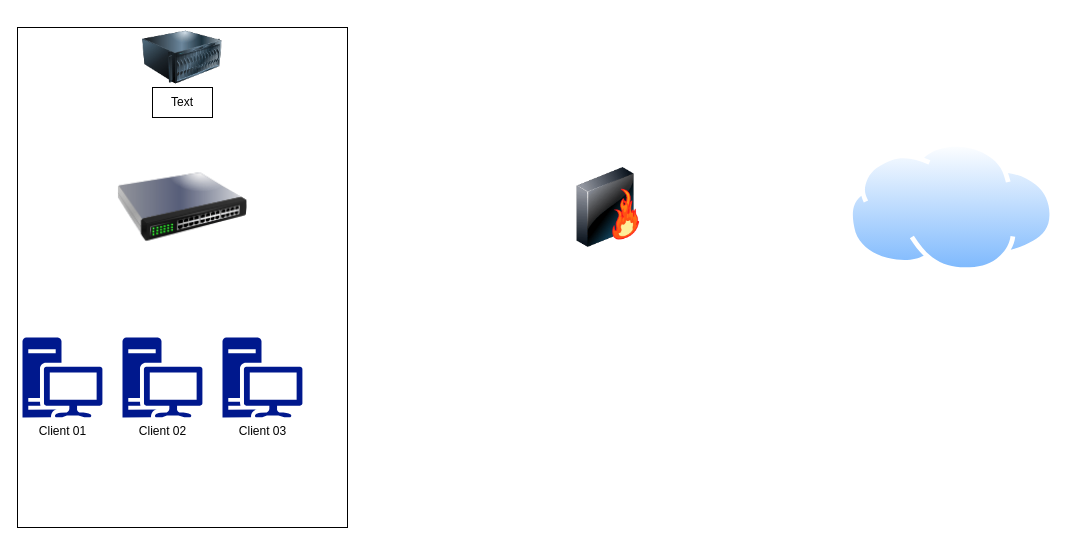
Image size: 1072x545. Some labels were removed from this diagram. Here are the shapes that lost their labels. From the top down, the centre of each, then its label:
At point 182,207: "Switch".
At point 951,207: "Internet".
